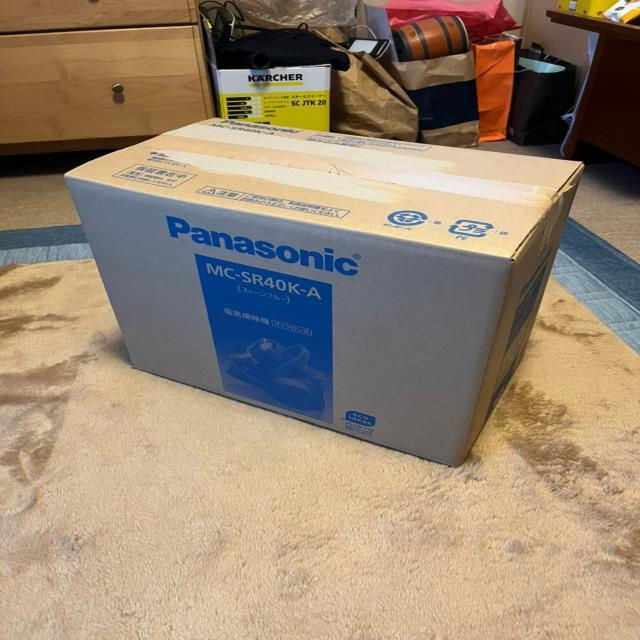box: (60, 111, 593, 472)
